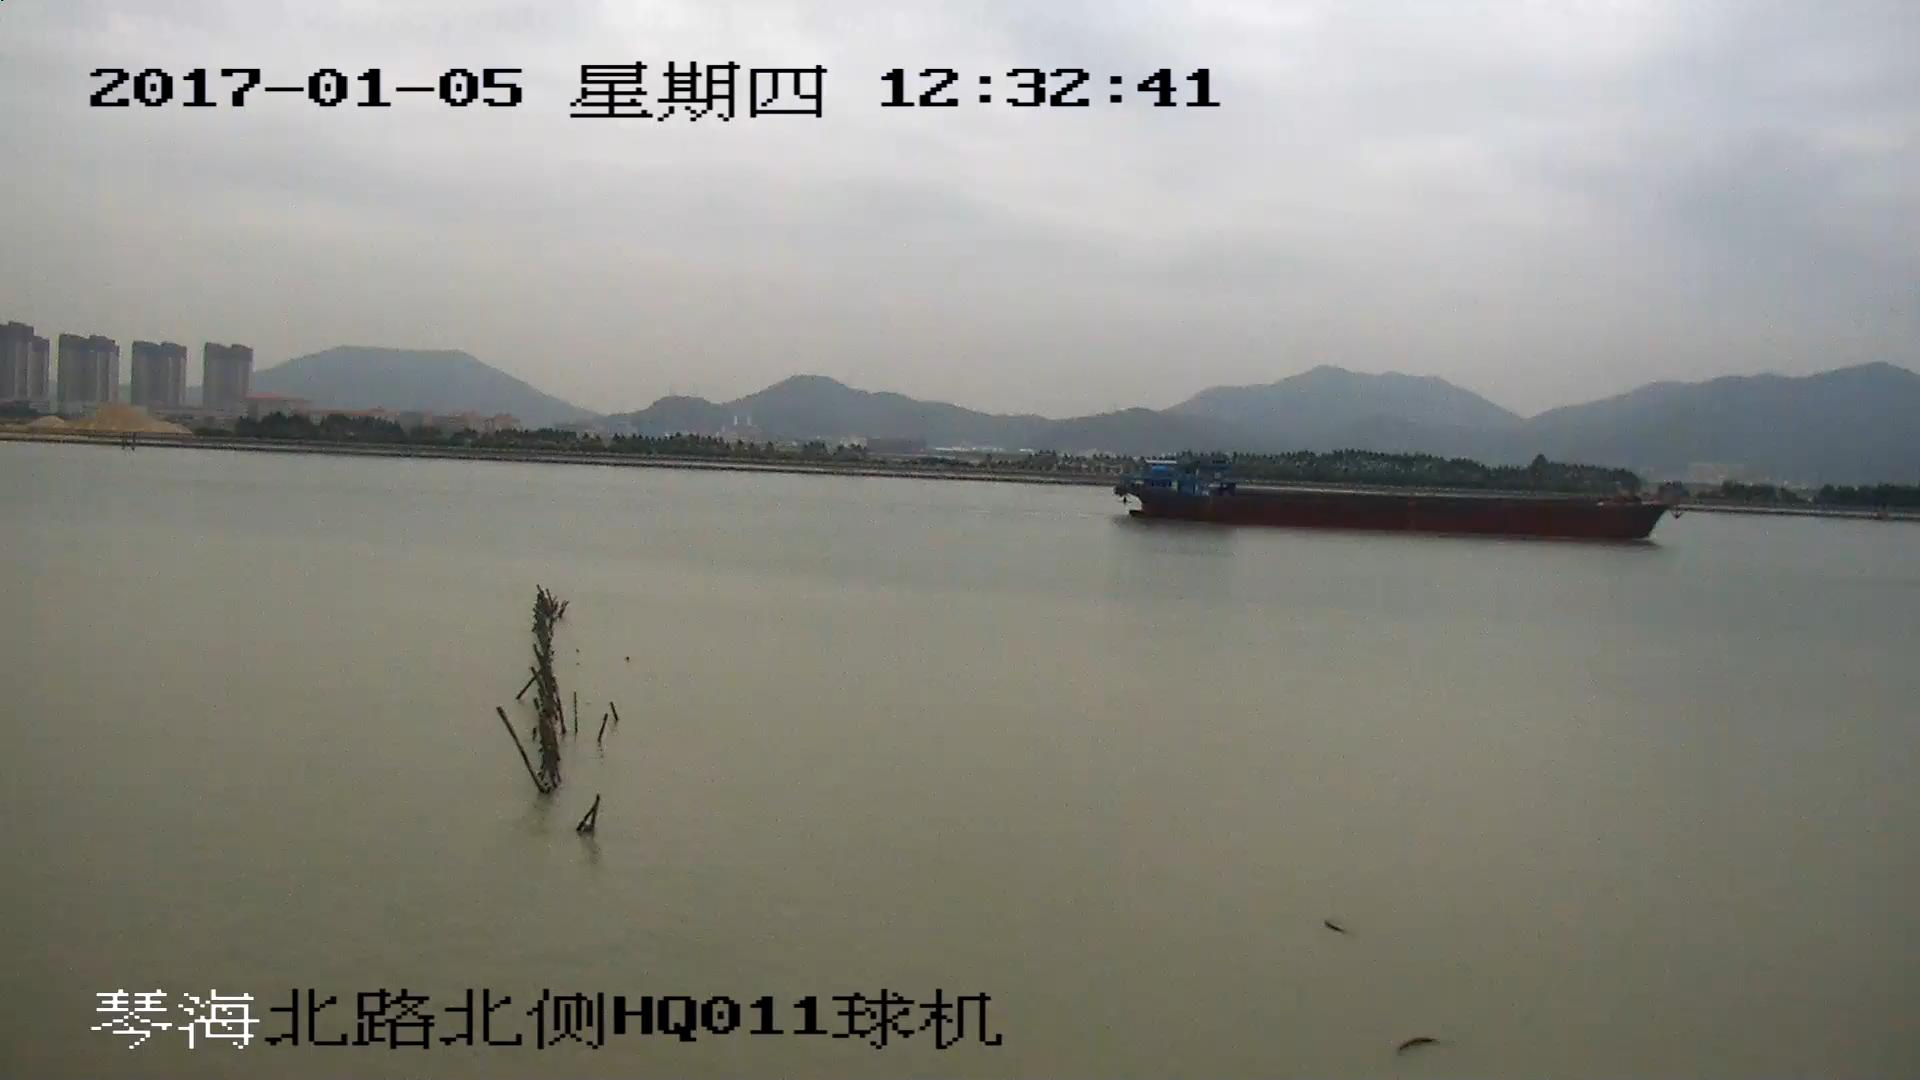bulk cargo carrier: (1116, 457, 1676, 538)
